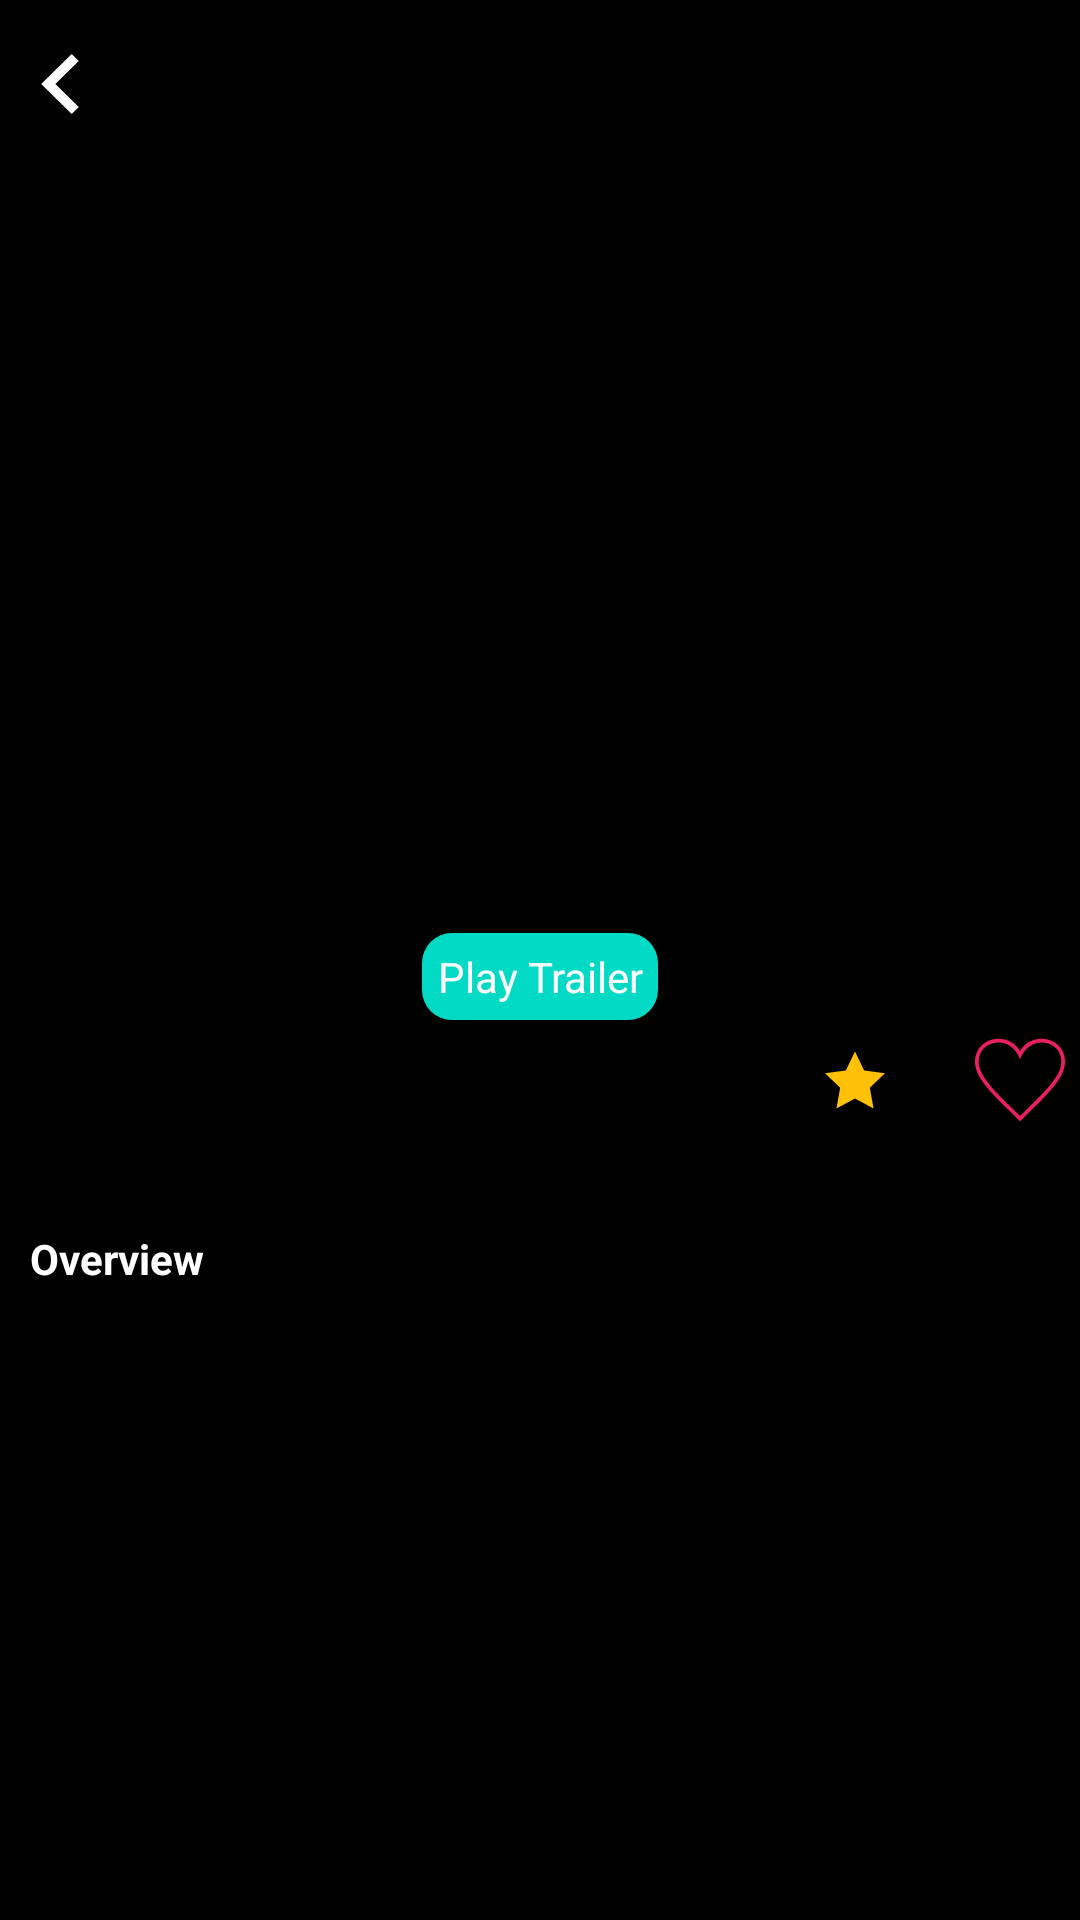

Locate icon controls on the screen. Image size 1080px x 1920px, boxes as (x1, y1, x2, y2).
favorite empty: (975, 1038, 1065, 1121)
left arrow: (41, 54, 79, 114)
star: (825, 1052, 885, 1109)
